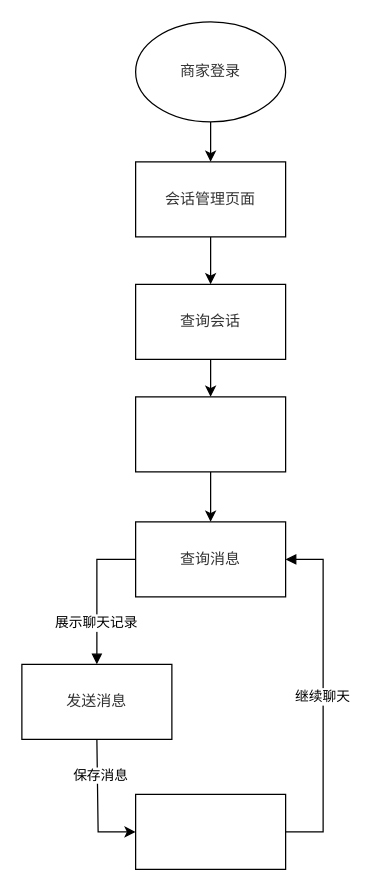
Some shapes in this 374 by 891 pixel diagram are drawn without their labels. Here are the shapes that lost their labels. From the top down, the centre of each, then its label:
(x=210, y=434): 会话详情页面
(x=210, y=831): 显示消息
